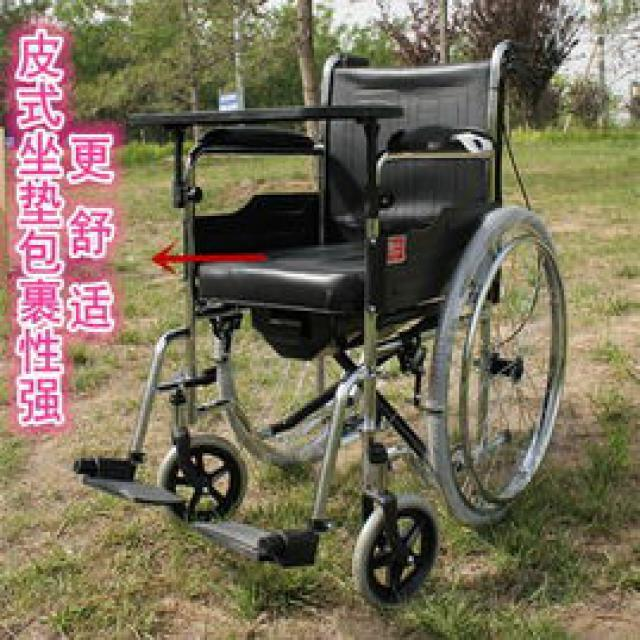wheelchair: (69, 36, 571, 604)
